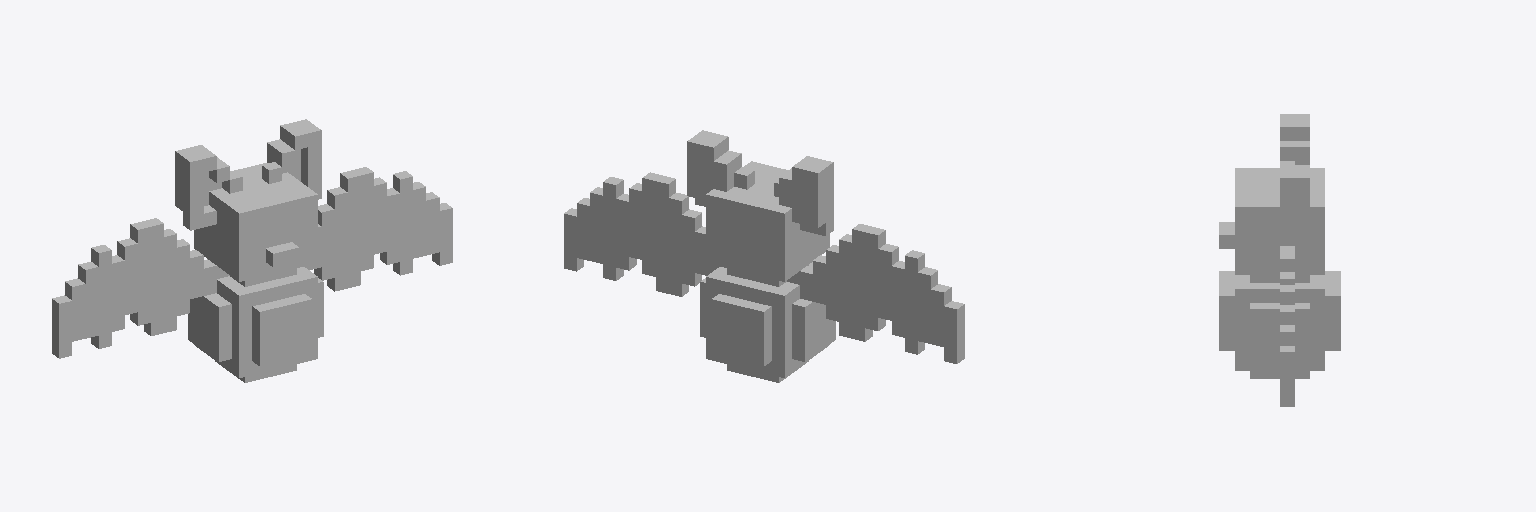
The model's file is bat.obj.
3 renders of one model, left to right at view 1: azimuth 30°, elevation 25°; view 2: azimuth 150°, elevation 25°; view 3: azimuth 270°, elevation 25°, orthographic.
Visible parts, largest first — view 1: object 1; view 2: object 1; view 3: object 1.
Boxes of the visible parts, x1=… form: object 1: x1=52, y1=119, x2=452, y2=382; object 1: x1=564, y1=130, x2=964, y2=382; object 1: x1=1219, y1=114, x2=1340, y2=406.
Bounding box in the file's own units: 3 × 1.6 × 0.8.